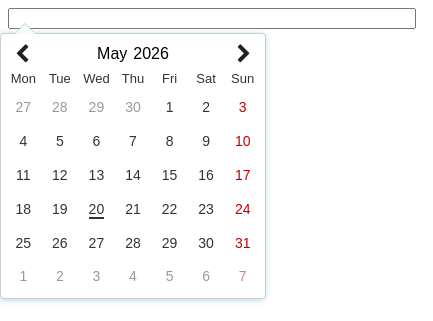
Test: AngularMyDatePickerComponent › options - markCurrentMonth
This screenshot has width=433, height=321.
Step 1. Click the button with class "myDpMonthBtn" → (112,53), box x1=97 y1=39 x2=127 y2=67
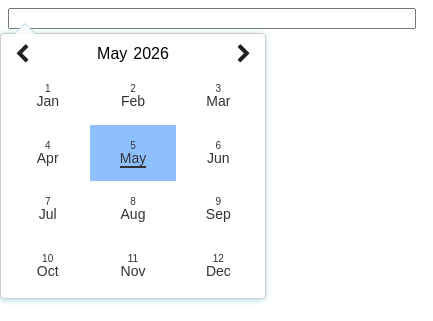
Expected: the text "May" is shown, x1=120 y1=150 x2=146 y2=168
